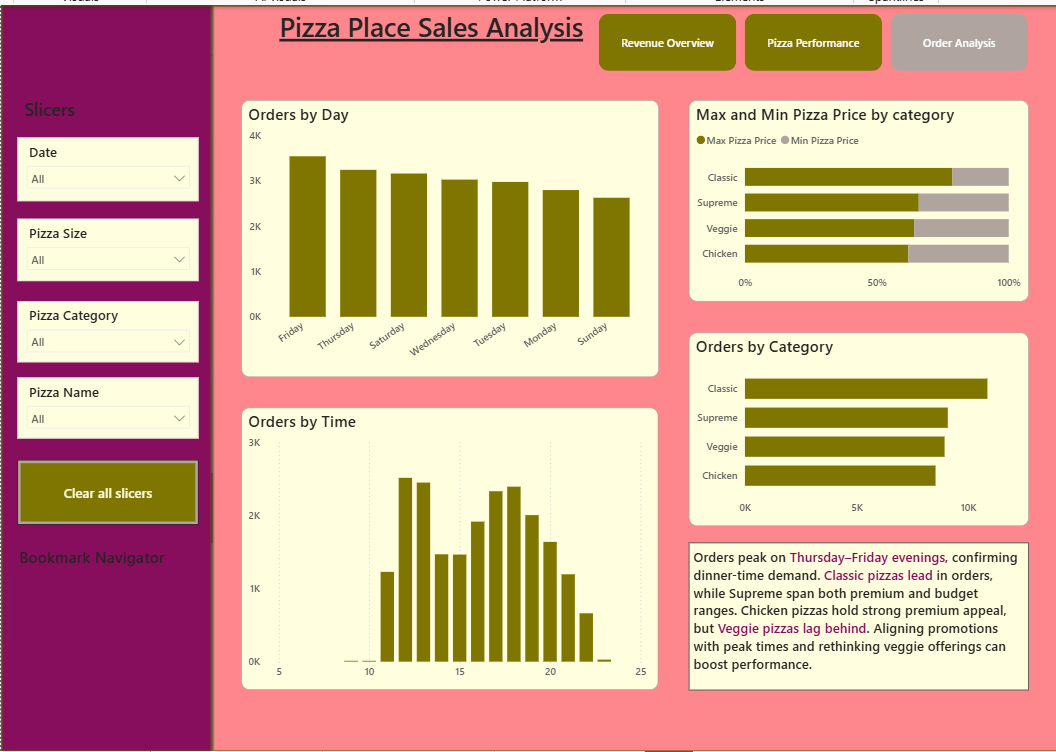

Layout of this report page (visuals, bound fields, positions):
{"tool":"powerbi","page":{"name":"Order Analysis","canvas":[1280,900],"ordinal":2},"visuals":[{"type":"slicer","fields":{"Values":["pizza_types.category"]},"box":[21.1,357.4,218.7,73.9],"z":0},{"type":"slicer","fields":{"Values":["pizzas.size"]},"box":[21.1,257.9,218.7,75.4],"z":1000},{"type":"slicer","fields":{"Values":["orders.date"]},"box":[21.1,159.9,218.7,76.9],"z":2000},{"type":"slicer","fields":{"Values":["pizza_types.name"]},"box":[21.1,449.4,218.7,73.9],"z":3000},{"type":"textbox","box":[322.7,0,395.1,61.8],"z":4000},{"type":"actionButton","box":[21.1,548.9,218.7,78.4],"z":5000},{"type":"textbox","box":[24.5,105.5,93.2,55],"z":6000},{"type":"textbox","box":[17.4,648.5,189.4,37.9],"z":7000},{"type":"columnChart","title":" Orders by Day","fields":{"Y":["Measures (2).Total Orders"],"Category":["orders.Order day"]},"box":[291.1,114.6,503.7,334.8],"z":8000},{"type":"hundredPercentStackedBarChart","title":"Max and Min Pizza Price by category","fields":{"Y":["Measures (2).Max Pizza Price","Measures (2).Min Pizza Price"],"Category":["pizza_types.category"]},"box":[831.6,115.2,410.3,243],"z":9000},{"type":"barChart","title":"Orders by Category","fields":{"Y":["Measures (2).Total Orders"],"Category":["pizza_types.category"]},"box":[831.6,394.5,410.3,233.5],"z":10000},{"type":"lineStackedColumnComboChart","title":"Orders by Time","fields":{"Y":["Measures (2).Total Orders"],"Category":["orders.Order Hours"]},"box":[290.3,486,503.4,340.8],"z":11000},{"type":"textbox","box":[831.6,648.5,410.3,178.3],"z":12000},{"type":"pageNavigator","box":[722.4,10.6,518.8,69.4],"z":12001}]}

Visuals, with their boxes on the page's 1280x900 design canvas (x1, y1, x2, y2). These are canvas units, not pixel positions in the 1056x752 screenshot, which may show the page scaled, cropped or inside an application window:
slicer - pizza_types.category: bbox=[21, 357, 240, 431]
slicer - pizzas.size: bbox=[21, 258, 240, 333]
slicer - orders.date: bbox=[21, 160, 240, 237]
slicer - pizza_types.name: bbox=[21, 449, 240, 523]
textbox: bbox=[323, 0, 718, 62]
actionButton: bbox=[21, 549, 240, 627]
textbox: bbox=[24, 106, 118, 160]
textbox: bbox=[17, 648, 207, 686]
" Orders by Day" columnChart: bbox=[291, 115, 795, 449]
"Max and Min Pizza Price by category" hundredPercentStackedBarChart: bbox=[832, 115, 1242, 358]
"Orders by Category" barChart: bbox=[832, 394, 1242, 628]
"Orders by Time" lineStackedColumnComboChart: bbox=[290, 486, 794, 827]
textbox: bbox=[832, 648, 1242, 827]
pageNavigator: bbox=[722, 11, 1241, 80]
